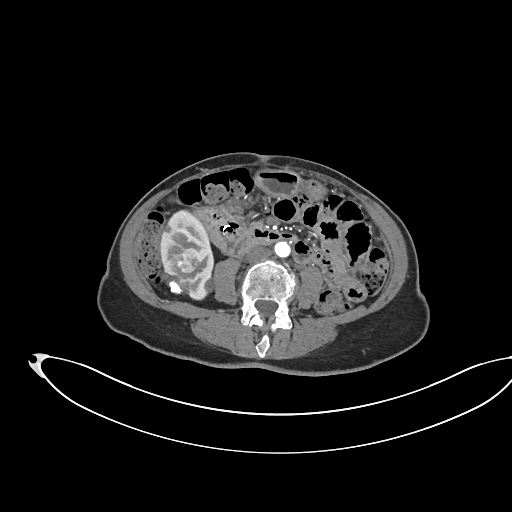Lesion: (175, 247, 201, 278)
